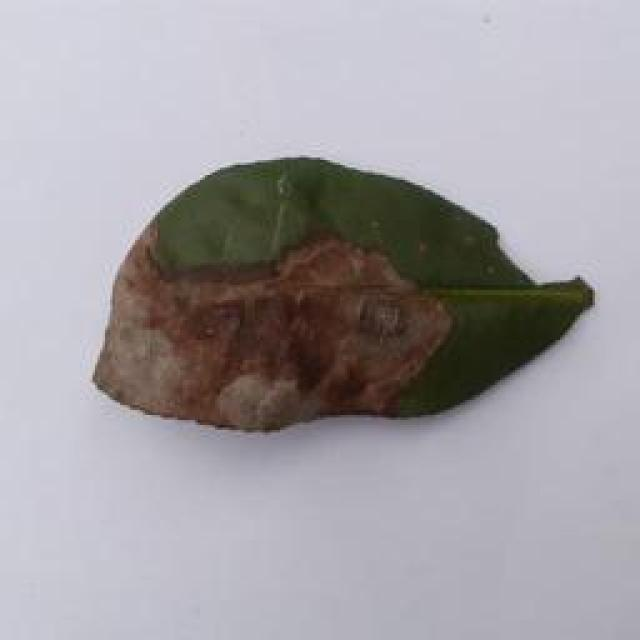Brown Blight: (85, 143, 600, 437)
